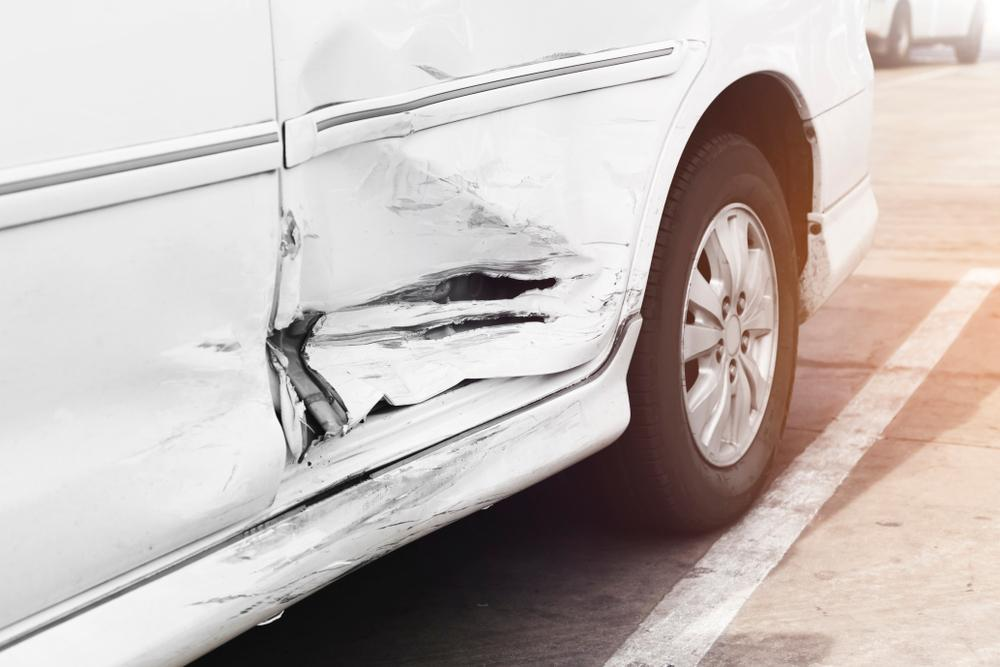crack: (272, 310, 348, 454), (431, 267, 561, 307), (419, 313, 555, 346)
dent: (284, 134, 615, 424), (292, 14, 490, 106)
scratch: (188, 418, 510, 641)
